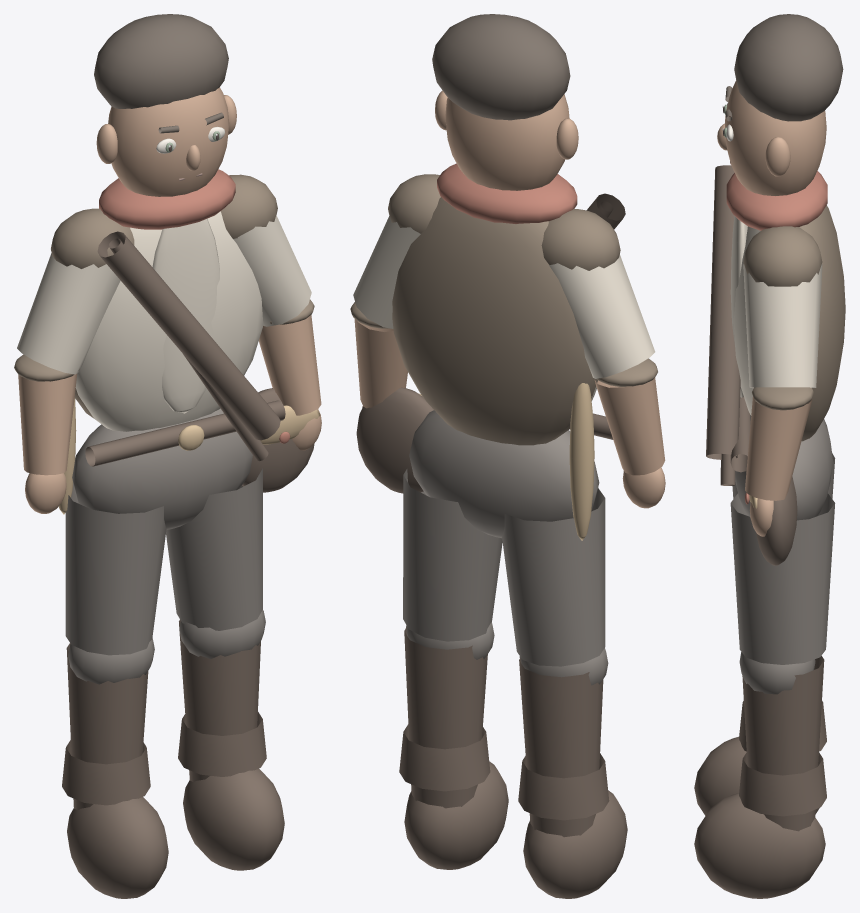
File: Reson.glb
3 renders of one model, left to right at view 1: azimuth 30°, elevation 25°; view 2: azimuth 150°, elevation 25°; view 3: azimuth 270°, elevation 25°, orthographic. The views are drawn at different scales.
Parts seen in each view (by area): view 1: Reson_lookdev; view 2: Reson_lookdev; view 3: Reson_lookdev.
Boxes of the visible parts, x1=… form: Reson_lookdev: x1=14, y1=14, x2=321, y2=898; Reson_lookdev: x1=350, y1=14, x2=665, y2=898; Reson_lookdev: x1=694, y1=14, x2=845, y2=898.
Size of the model in its own units: 0.6938 by 1.91 by 0.311.
